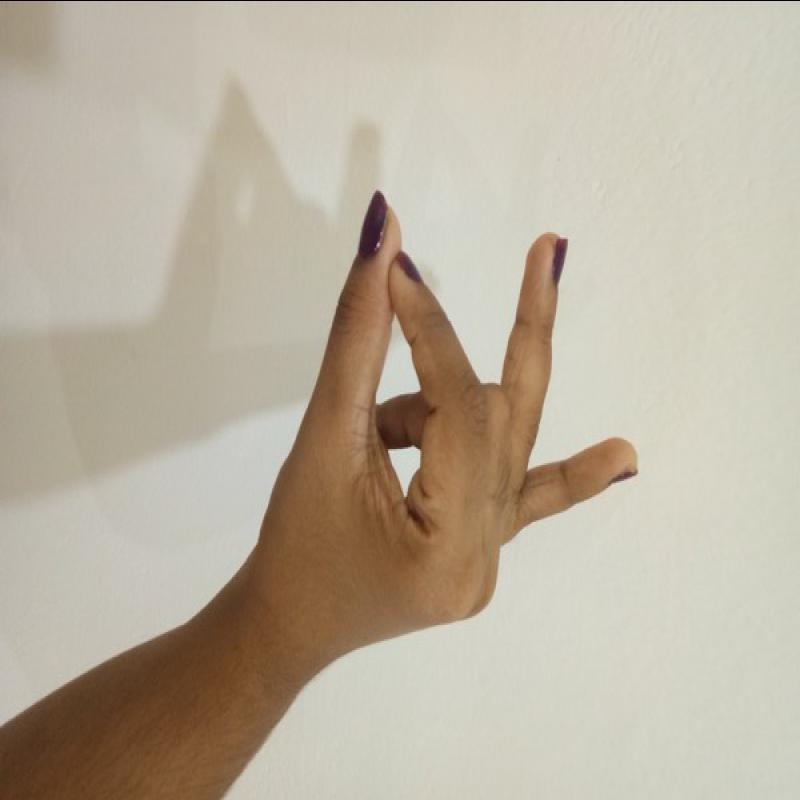Katakam: (241, 179, 653, 669)
